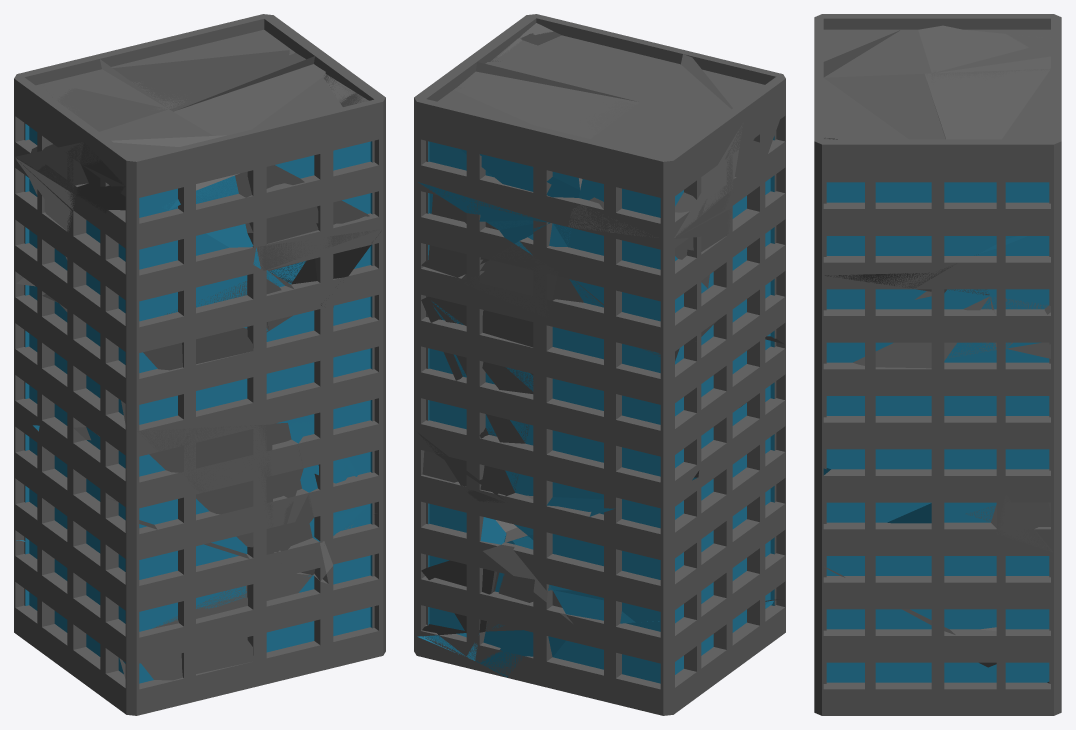
Rendered from D_blok.fbx.
3 views of the same model, side by side, from view 1: azimuth 30°, elevation 25°; view 2: azimuth 150°, elevation 25°; view 3: azimuth 270°, elevation 25° (orthographic). The views are drawn at different scales.
Visible parts, largest first — view 1: blok.013, blok.009, blok.001, blok.047, blok.020, blok.006, blok.054, blok.036, blok.055, blok.016, blok.023, blok.031 (+17 smaller); view 2: blok.032, blok.046, blok.009, blok.017, blok.036, blok.042, blok.055, blok.039, blok.037, blok.007, blok.003, blok.051 (+21 smaller); view 3: blok.016, blok.005, blok.001, blok.018, blok.002, blok.036, blok.055, blok.039, blok.010, blok.051, blok.023, blok.031 (+10 smaller).
Boxes of the visible parts, bbox=[...] form: blok.013: bbox=[39, 423, 319, 566]; blok.009: bbox=[22, 432, 273, 648]; blok.001: bbox=[235, 74, 385, 505]; blok.047: bbox=[59, 195, 262, 332]; blok.020: bbox=[59, 279, 271, 427]; blok.006: bbox=[101, 567, 312, 691]; blok.054: bbox=[40, 322, 293, 430]; blok.036: bbox=[94, 14, 324, 111]; blok.055: bbox=[174, 53, 385, 172]; blok.016: bbox=[268, 308, 385, 422]; blok.023: bbox=[84, 111, 240, 206]; blok.031: bbox=[288, 418, 385, 542]; blok.032: bbox=[509, 319, 714, 508]; blok.046: bbox=[414, 280, 548, 503]; blok.009: bbox=[512, 435, 785, 626]; blok.017: bbox=[558, 187, 735, 342]; blok.036: bbox=[414, 60, 639, 189]; blok.042: bbox=[513, 478, 698, 626]; blok.055: bbox=[466, 14, 686, 101]; blok.039: bbox=[414, 112, 579, 243]; blok.037: bbox=[594, 121, 743, 239]; blok.007: bbox=[475, 627, 644, 711]; blok.003: bbox=[576, 603, 760, 715]; blok.051: bbox=[579, 102, 745, 197]; blok.016: bbox=[814, 350, 1042, 514]; blok.005: bbox=[814, 514, 1061, 643]; blok.001: bbox=[814, 137, 978, 286]; blok.018: bbox=[814, 286, 1005, 397]; blok.002: bbox=[814, 644, 1061, 715]; blok.036: bbox=[924, 56, 1061, 159]; blok.055: bbox=[814, 65, 950, 153]; blok.039: bbox=[950, 153, 1061, 253]; blok.010: bbox=[814, 563, 972, 662]; blok.051: bbox=[906, 14, 1061, 73]; blok.023: bbox=[814, 14, 924, 77]; blok.031: bbox=[814, 468, 939, 556].
Size of the model in its own units: 500 by 1020 by 400.
